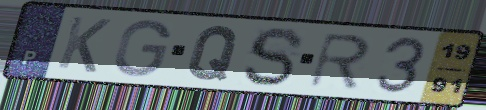3: (373, 35, 428, 96)
G: (110, 18, 174, 79)
K: (53, 13, 114, 75)
Q: (185, 23, 243, 82)
R: (306, 31, 374, 91)
S: (239, 25, 308, 89)
